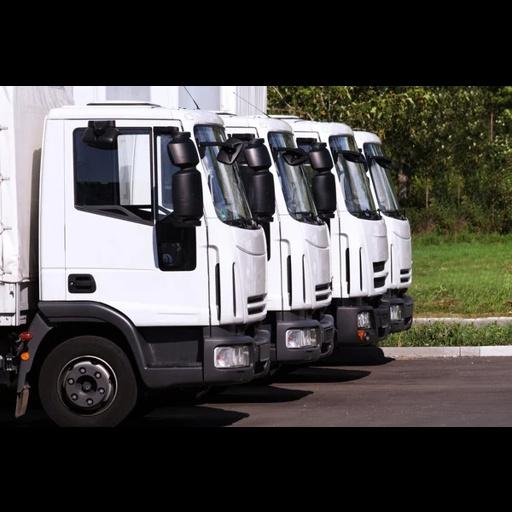truck: (0, 85, 275, 432), (58, 86, 335, 363), (149, 87, 390, 352), (215, 86, 416, 328)
